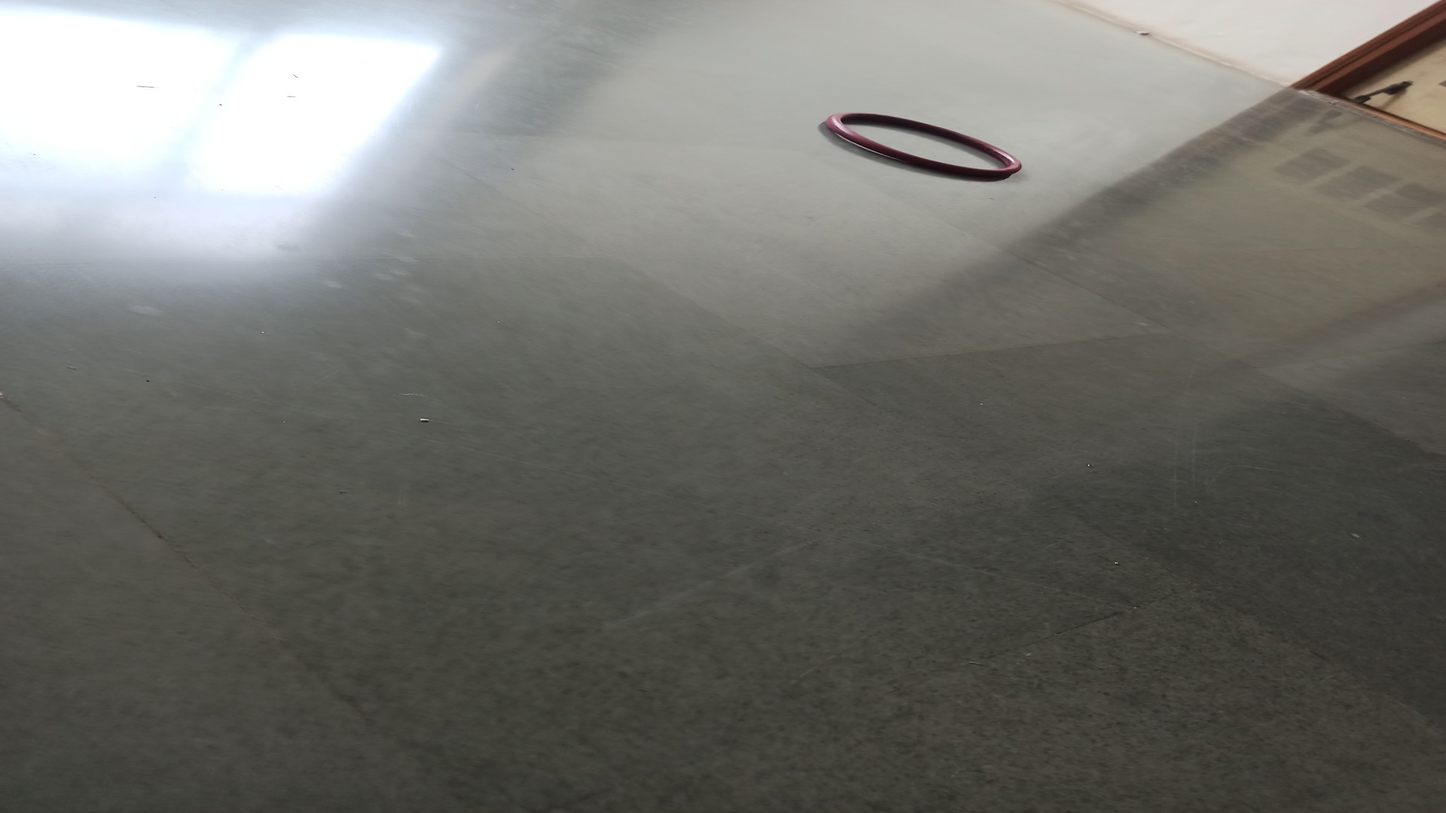Red ring: (823, 107, 1023, 186)
